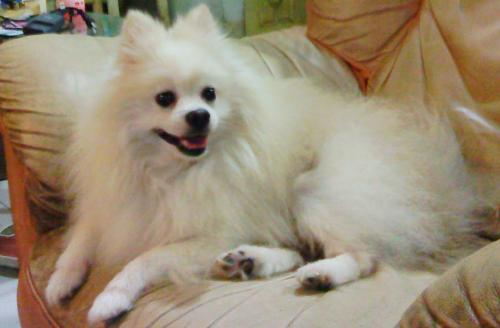dog: (99, 14, 255, 185)
